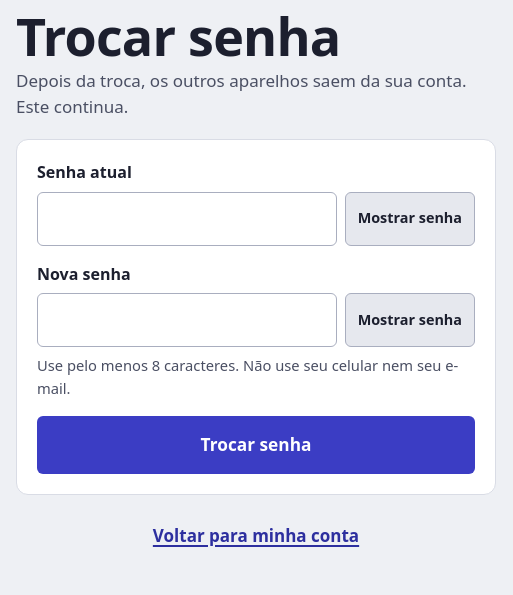
Scenario: /conta/trocar-senha › 422 senha-atual-incorreta: erro no campo da senha atual
Type "Casa-Azul-2026" into the password field labelled "Senha atual". click: (187, 218)
box: [37,192,337,246]
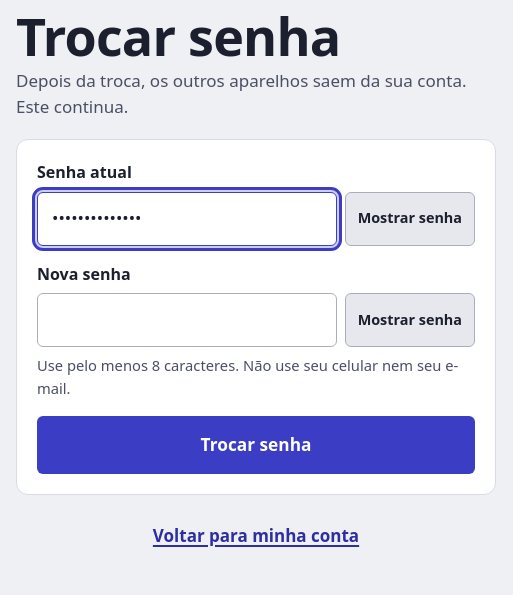
Type "Casa-Verde-2026" into the password field labelled "Nova senha". click: (187, 320)
box: [37,293,337,347]
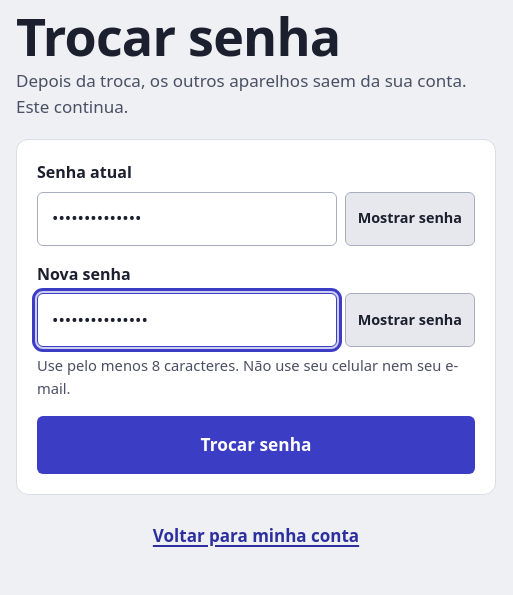
Click the button "Trocar senha". click: (256, 445)
box: [37,416,475,474]
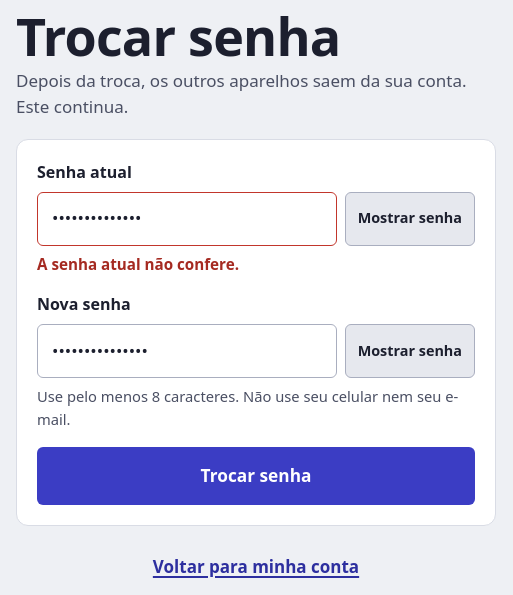
Result: the text "A senha atual não confere." is shown at [37,254,239,274]
